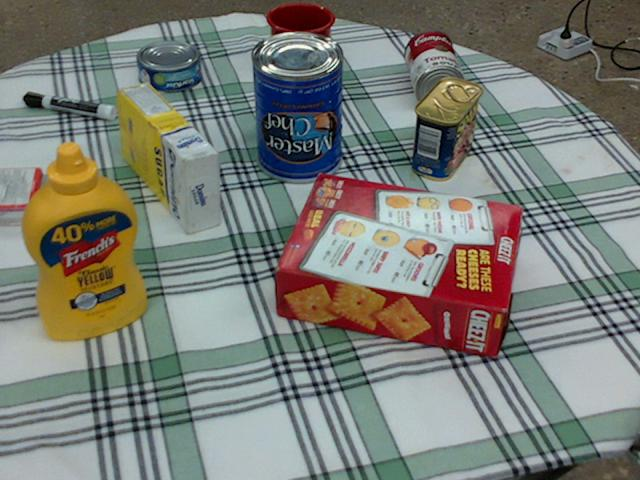cracker_box: (277, 172, 520, 356)
gelatin_box: (0, 167, 44, 225)
large_marker: (24, 91, 115, 119)
master_chef_can: (250, 31, 342, 181)
mug: (267, 2, 336, 82)
mustard_bottle: (21, 142, 145, 337)
potted_meat_can: (411, 77, 480, 180)
sugar_box: (116, 82, 219, 233)
tomato_soup_can: (405, 30, 464, 109)
tuna_fish_can: (137, 40, 201, 90)
